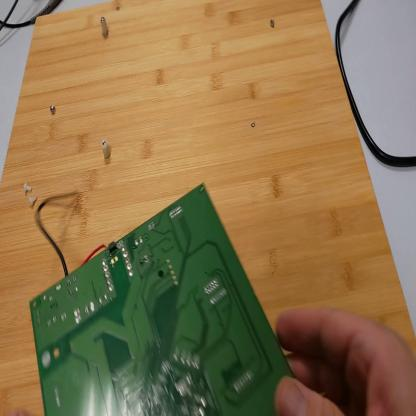hand: (273, 308, 416, 415)
low voltage board: (32, 180, 300, 416)
working area: (1, 1, 416, 416)
